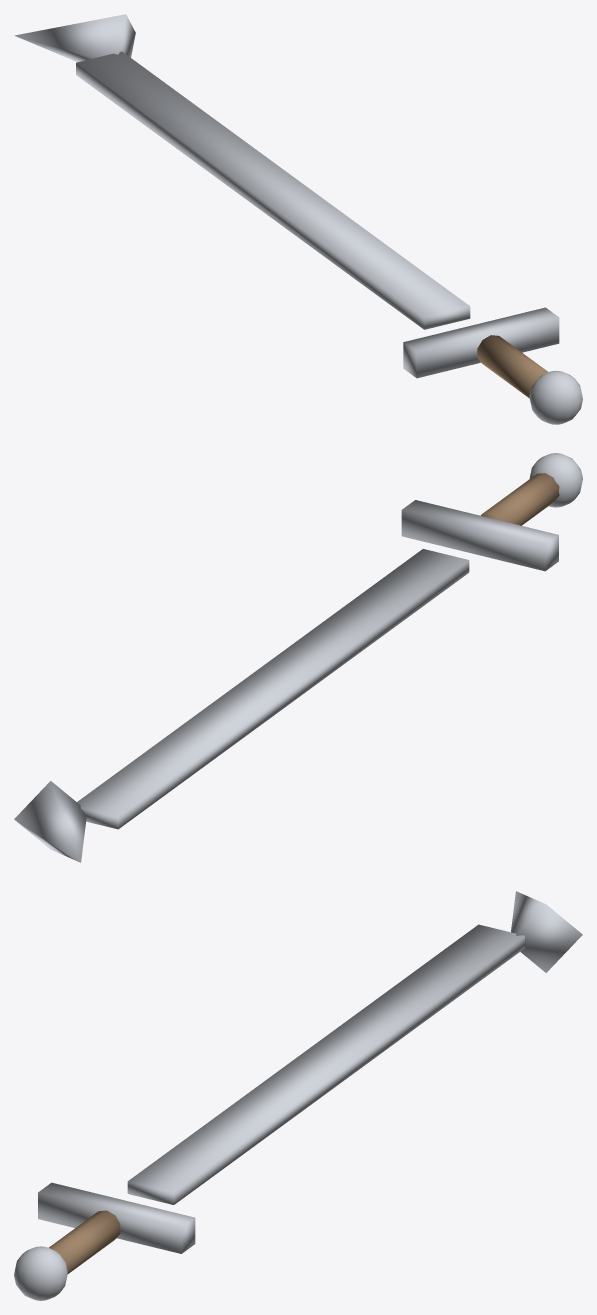
File: weapon_sword.fbx
3 views of the same model, one above another, from view 1: azimuth 30°, elevation 25°; view 2: azimuth 150°, elevation 25°; view 3: azimuth 330°, elevation 25° (orthographic).
Visible parts, largest first — view 1: Sword; view 2: Sword; view 3: Sword.
Boxes of the visible parts, bbox=[...] form: Sword: bbox=[14, 14, 582, 424]; Sword: bbox=[14, 453, 582, 862]; Sword: bbox=[14, 891, 582, 1300].
Size of the model in its own units: 17 by 7.8 by 108.
